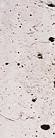Spalling: (1, 1, 55, 138)
